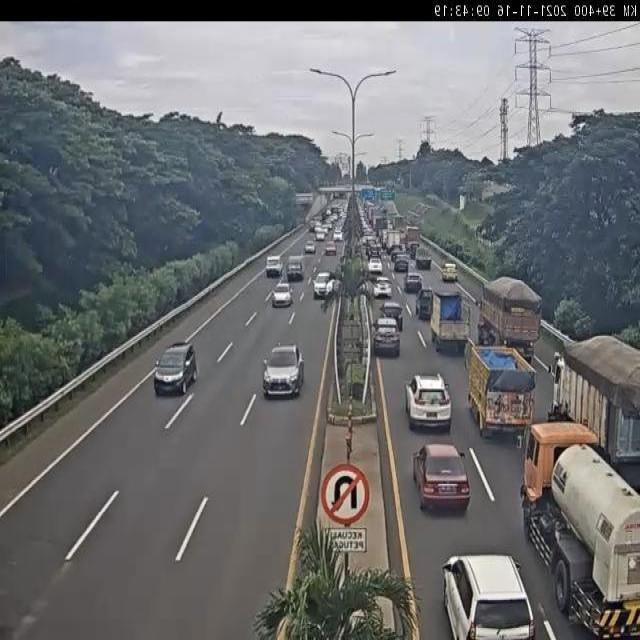Car: (441, 553, 535, 639), (412, 444, 471, 513), (405, 373, 452, 431), (152, 340, 198, 396), (262, 343, 306, 398), (372, 318, 402, 356), (380, 300, 404, 331), (313, 271, 335, 300), (272, 282, 293, 308), (404, 272, 423, 294), (373, 279, 392, 300), (442, 262, 458, 282), (389, 244, 405, 261), (368, 258, 383, 276), (394, 255, 409, 272), (368, 244, 381, 259), (325, 242, 337, 256), (304, 241, 316, 254), (316, 230, 326, 242), (334, 230, 343, 242), (309, 221, 317, 232)
Truck: (515, 417, 640, 640), (547, 332, 640, 492), (464, 339, 536, 440), (478, 276, 543, 364), (429, 288, 469, 355), (415, 288, 435, 319), (285, 254, 305, 283), (264, 255, 284, 279), (414, 247, 433, 271), (386, 229, 403, 255), (404, 224, 420, 250), (393, 215, 407, 237)
